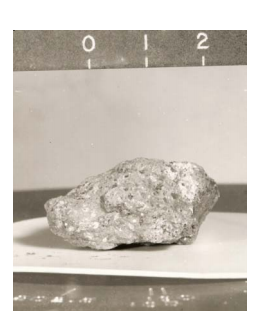Breccia: (33, 129, 228, 258)
